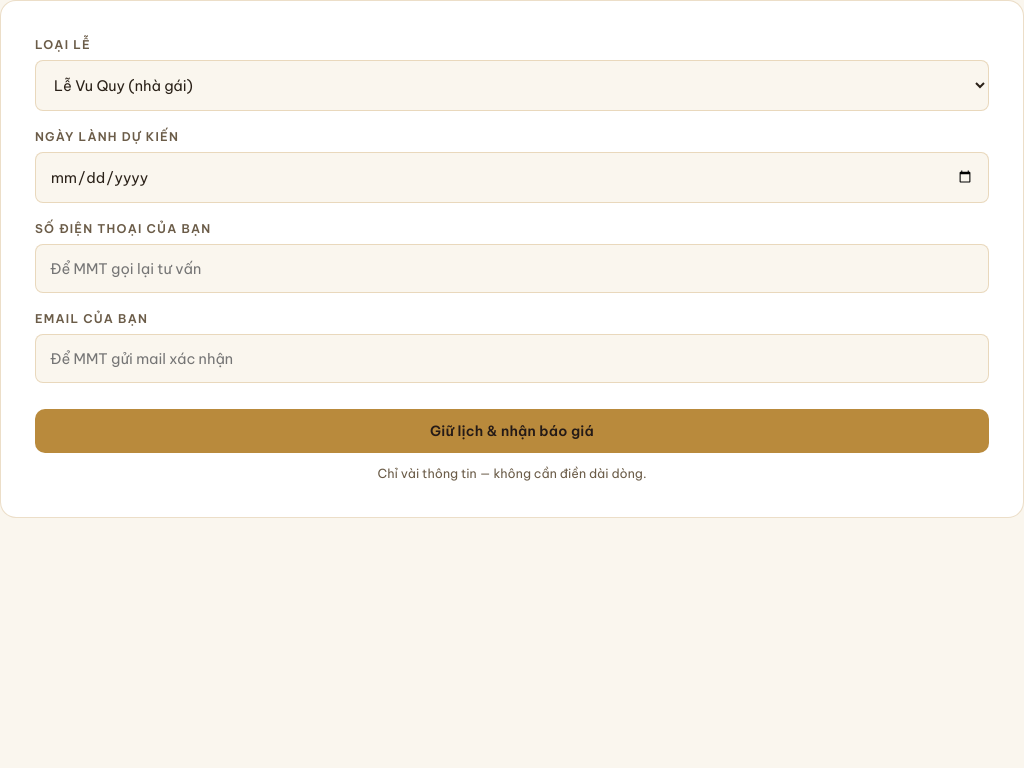
Test: ContactForm › shows the server validation message on a 400 response
Type "2026-09-01" into the date field labelled "Ngày lành dự kiến" at (512, 178), box [35,152,989,203]
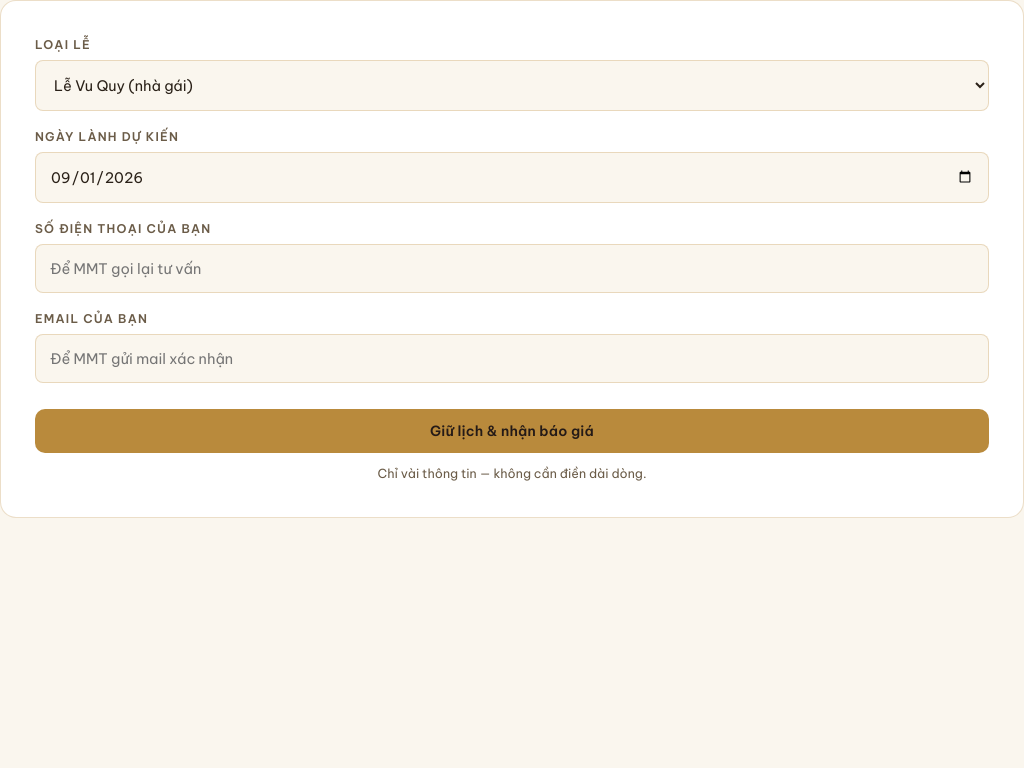
Type "123" into the field with placeholder "Để MMT gọi lại tư vấn" at (512, 268), box [35,244,989,293]
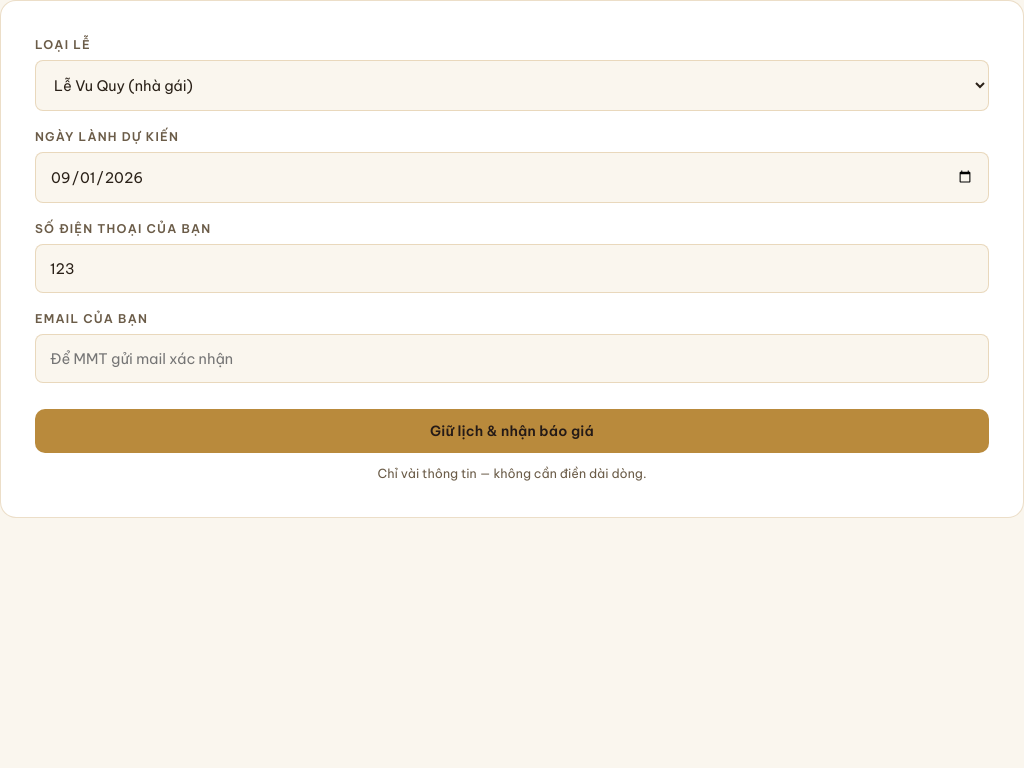
Type "khach@example.com" into the field with placeholder "Để MMT gửi mail xác nhận" at (512, 358), box [35,334,989,383]
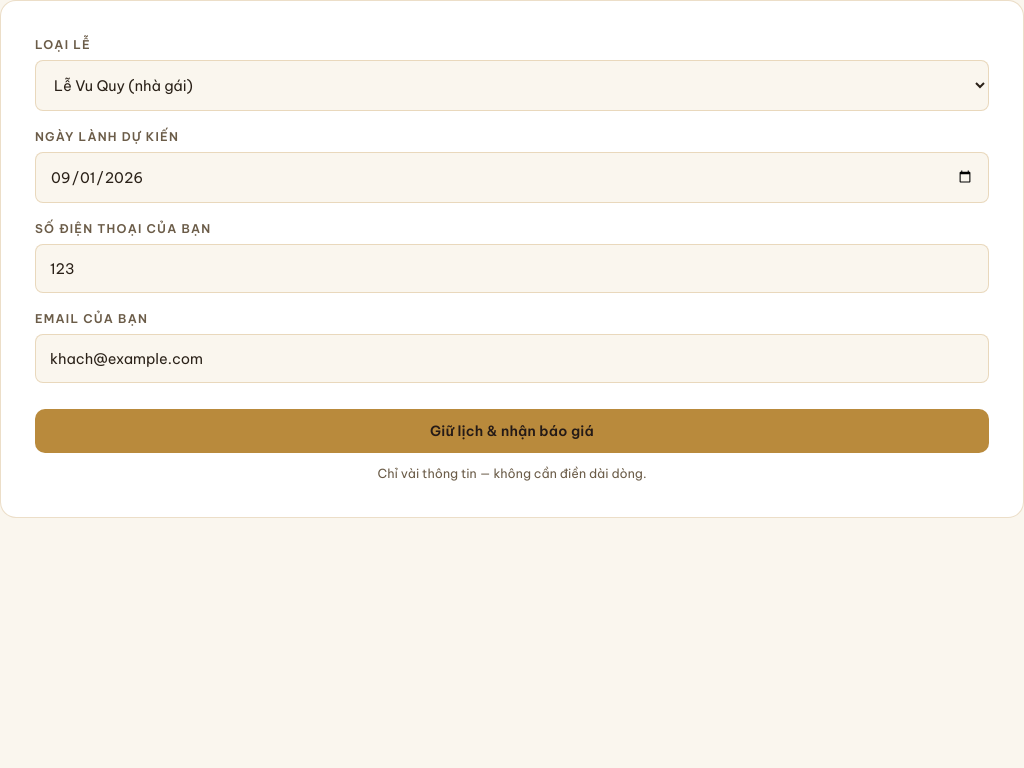
Click the button "Giữ lịch & nhận báo giá" at (512, 431), box [35,409,989,453]
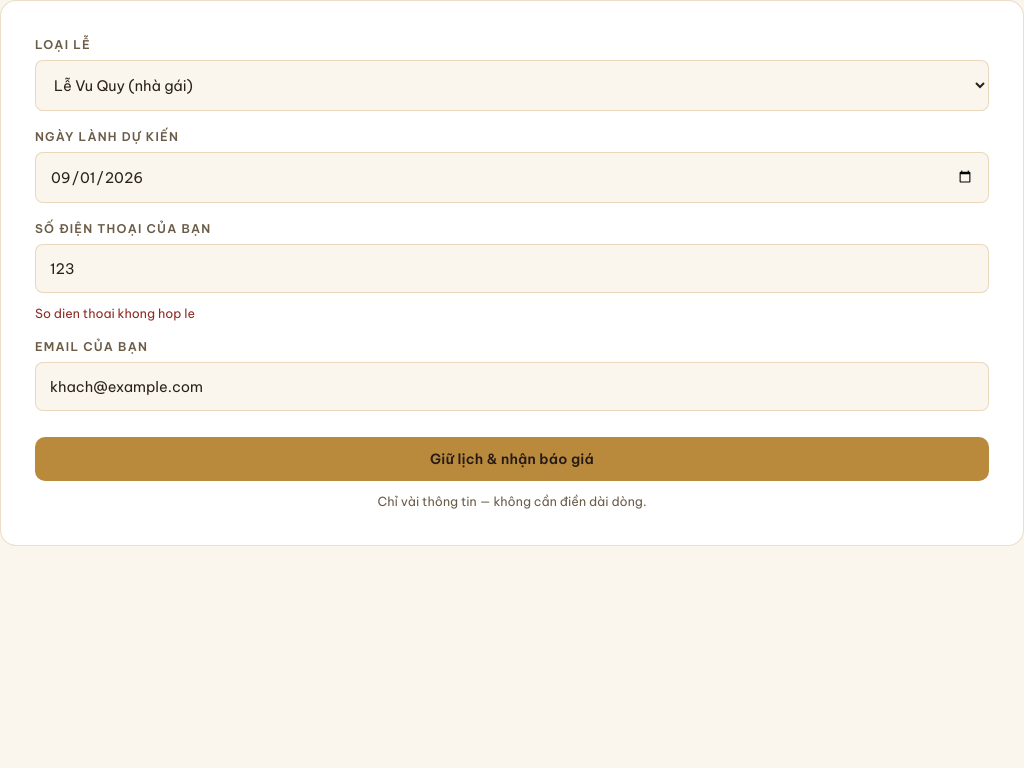
Expected: the text "So dien thoai khong hop le" is shown, [35,305,195,321]
